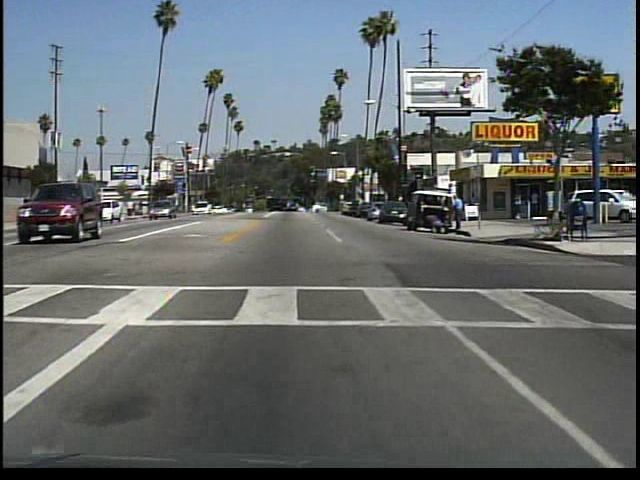person: (450, 191, 470, 235), (510, 188, 524, 223), (427, 214, 445, 235), (530, 188, 541, 218), (40, 193, 41, 224)
